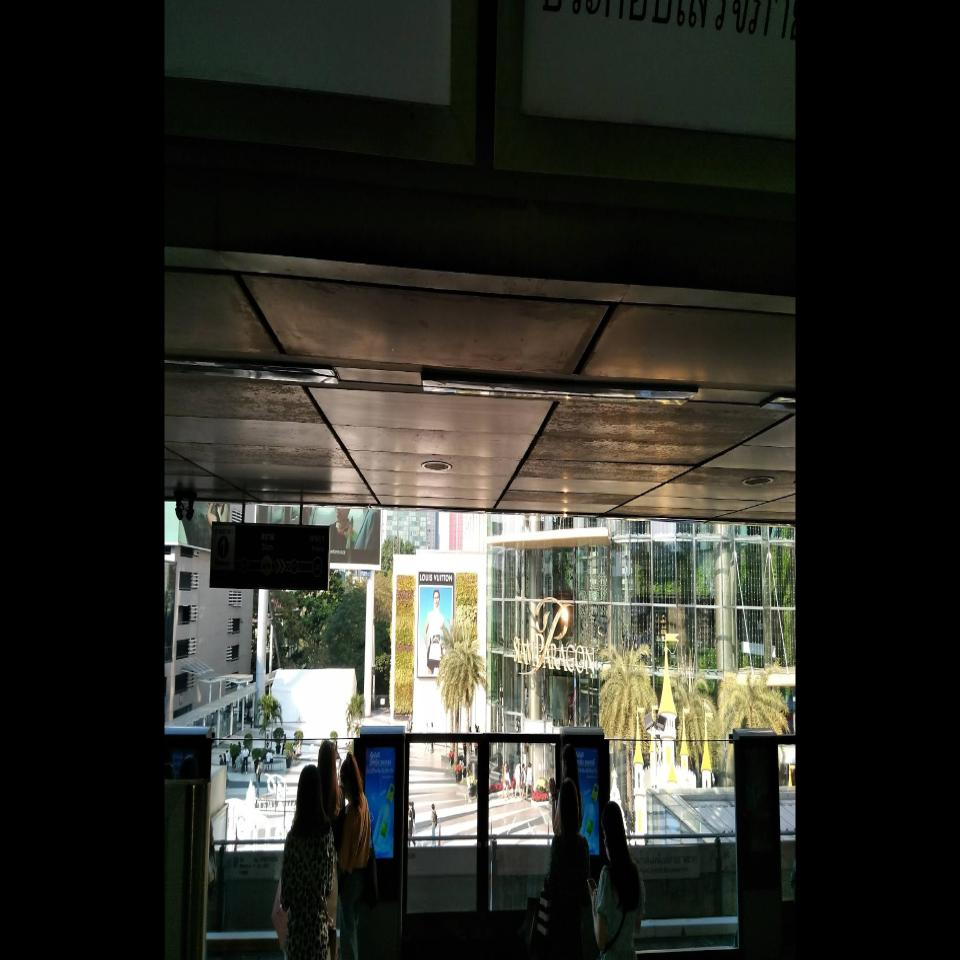signage: (239, 530, 299, 580)
